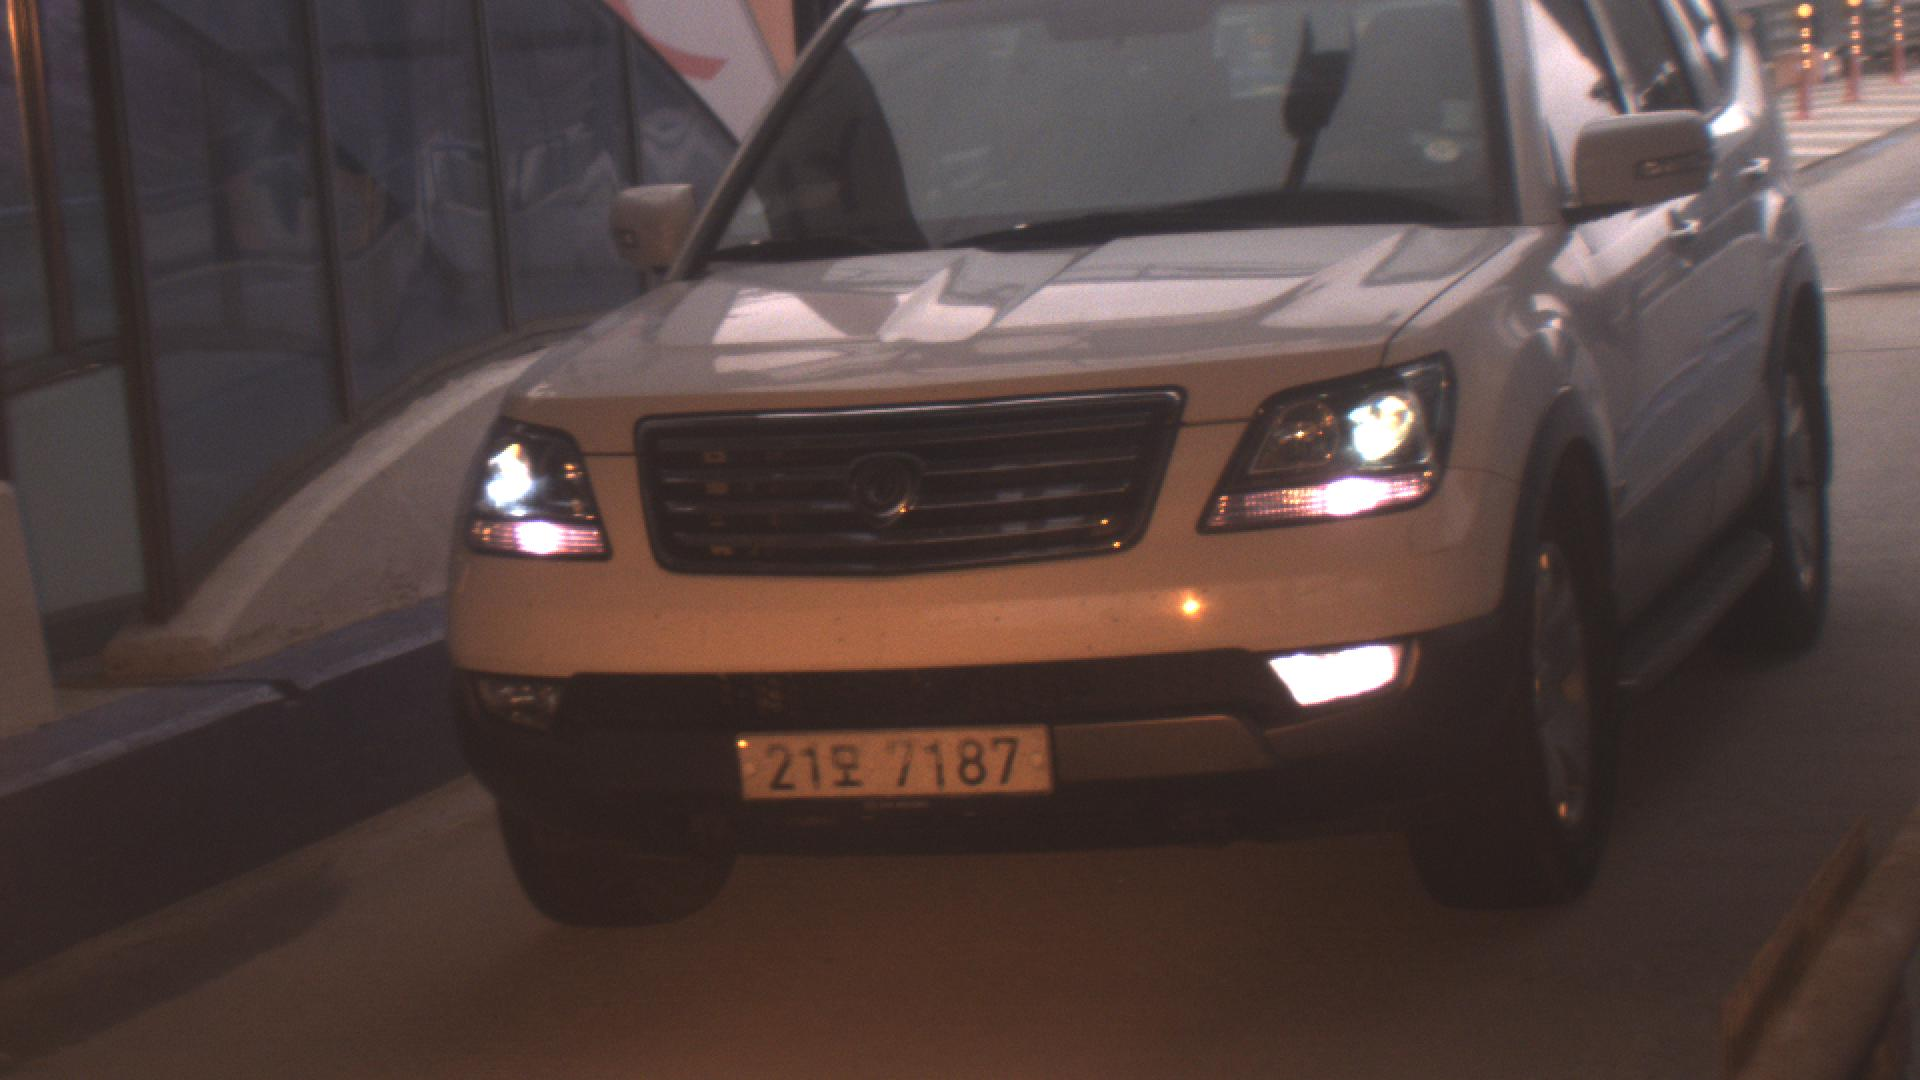car: (445, 3, 1833, 929)
plate: (729, 719, 1053, 803)
